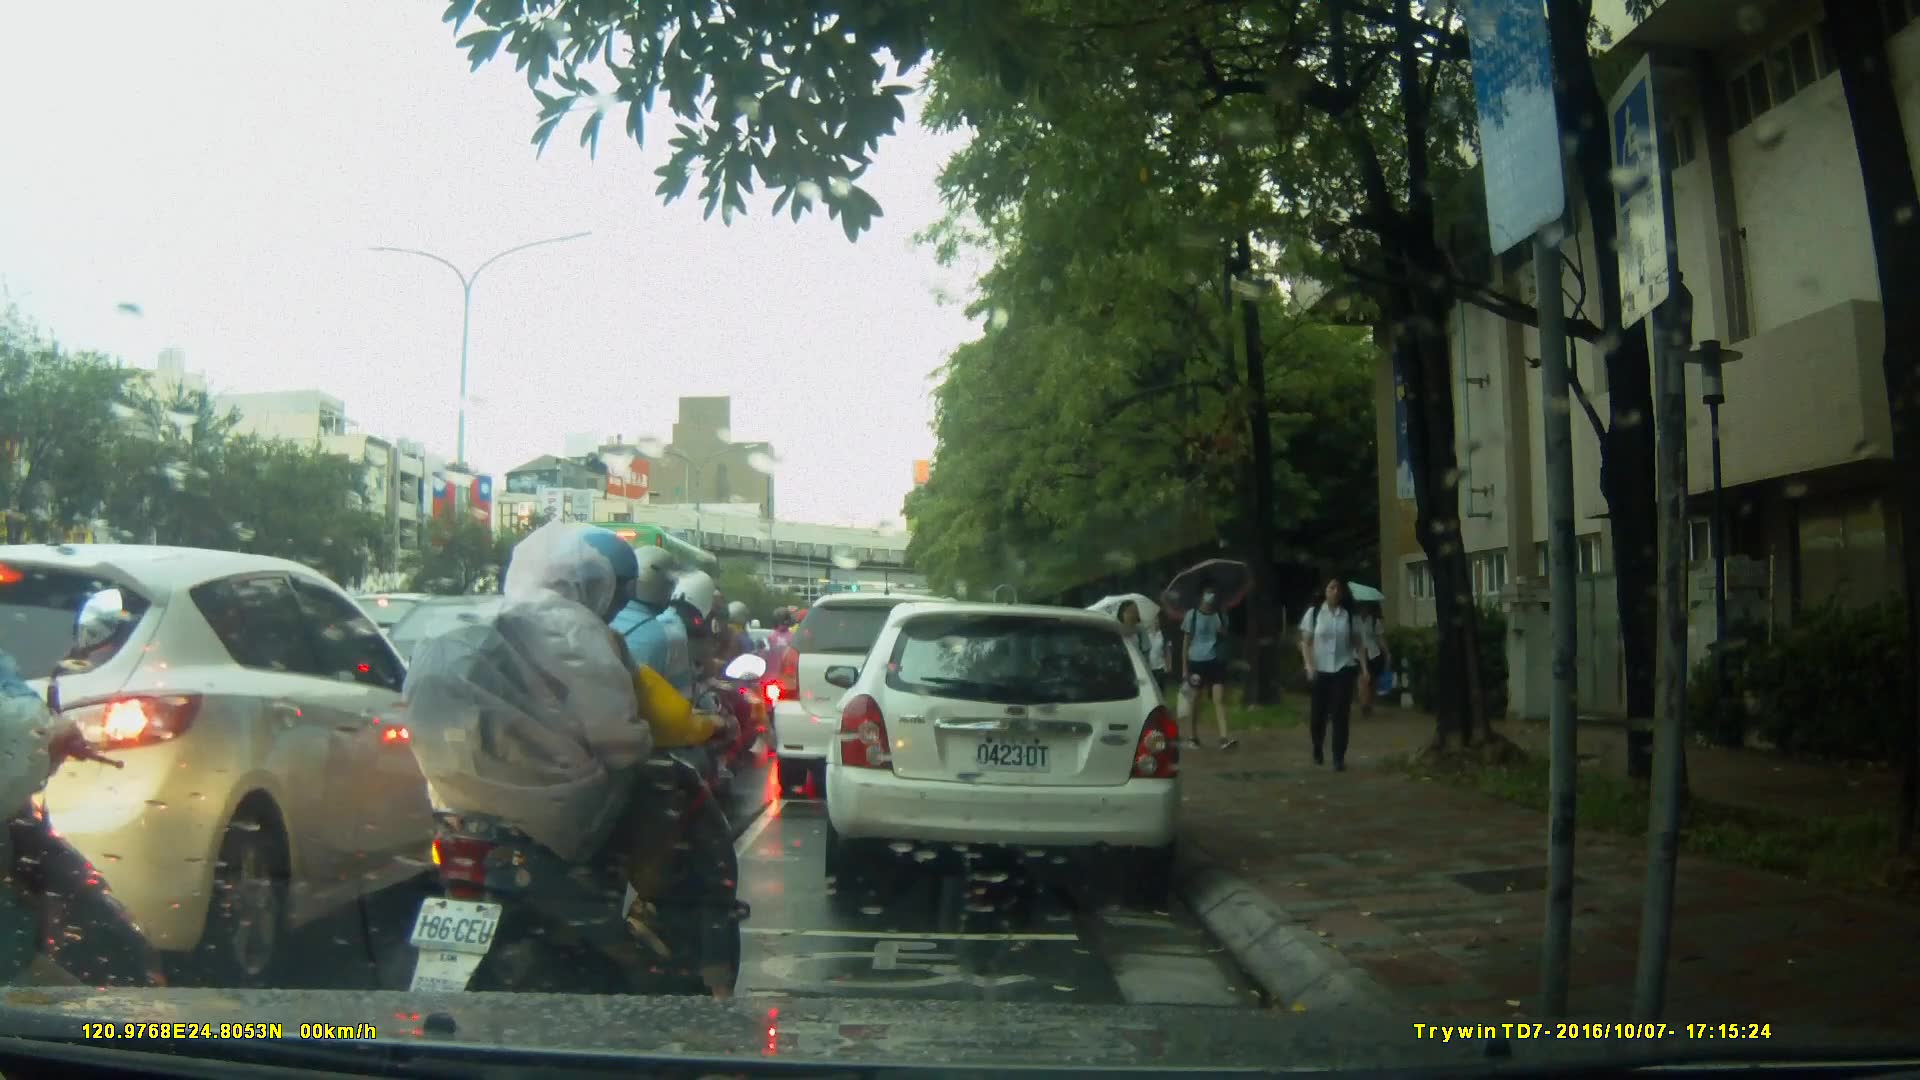pedestrian: (1295, 565, 1372, 778), (1173, 573, 1243, 761), (1106, 601, 1152, 718), (1137, 609, 1173, 730)
rider: (413, 528, 762, 1030), (1, 574, 160, 1076), (561, 546, 718, 881), (627, 574, 753, 855), (698, 598, 780, 762), (754, 603, 807, 751)
vehicle: (1, 541, 485, 990), (822, 604, 1186, 882), (774, 595, 995, 802), (554, 519, 739, 666)
